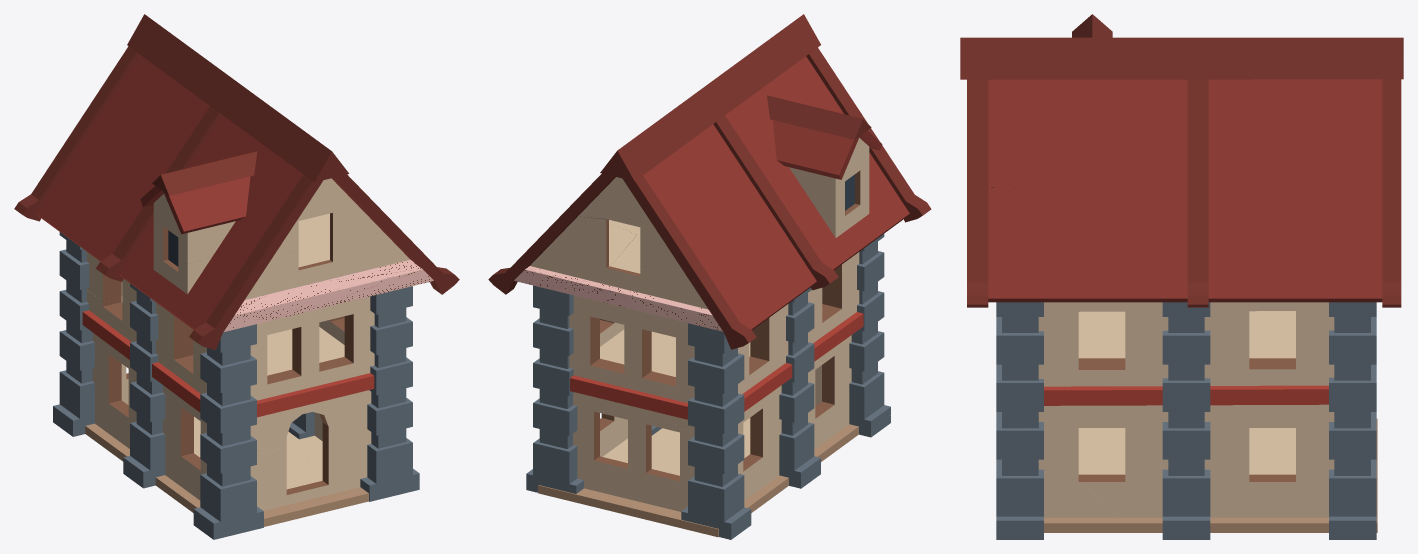
The model's file is House.fbx.
The picture shows the model from 3 angles, left to right: view 1: azimuth 30°, elevation 25°; view 2: azimuth 150°, elevation 25°; view 3: azimuth 270°, elevation 25°; orthographic projection. The views are drawn at different scales.
Visible parts, largest first — view 1: Cube.121_cell.012, Cube.121_cell.008, Cube.109_cell.004, Cube.124_cell.002, Cube.121_cell.004, Cube.108_cell.007, Cube.108_cell.009, Cube.121_cell.009, Cube.109_cell, Cube.097_cell.005, Cube.097_cell.006, Cube.109_cell.013_cell (+50 smaller); view 2: Cube.121_cell.012, Cube.121_cell.008, Cube.109_cell.008, Cube.126_cell.001, Cube.121_cell.004, Cube.123_cell, Cube.121_cell.009, Cube.109_cell.001_cell.002_cell.001, Cube.100_cell.002, Cube.097_cell.006, Cube.123_cell.002, Cube.097_cell.005 (+45 smaller); view 3: Cube.110_cell.008, Cube.110_cell.006, Cube.110_cell, Cube.110_cell.010, Cube.109_cell.004, Cube.097_cell.005, Cube.126_cell.001, Cube.109_cell.010_cell.003, Cube.109_cell.002_cell, Cube.097_cell.002, Cube.124_cell.002, Cube.109_cell.002_cell.001 (+24 smaller).
Part boxes in pixels (bbox=[...]): Cube.121_cell.012: bbox=[87, 54, 225, 182]; Cube.121_cell.008: bbox=[35, 133, 154, 261]; Cube.109_cell.004: bbox=[267, 213, 374, 413]; Cube.124_cell.002: bbox=[360, 357, 419, 501]; Cube.121_cell.004: bbox=[118, 218, 250, 329]; Cube.108_cell.007: bbox=[200, 324, 256, 433]; Cube.108_cell.009: bbox=[200, 426, 263, 532]; Cube.121_cell.009: bbox=[194, 117, 302, 246]; Cube.109_cell: bbox=[193, 305, 335, 400]; Cube.097_cell.005: bbox=[227, 87, 349, 182]; Cube.097_cell.006: bbox=[127, 26, 244, 117]; Cube.109_cell.013_cell: bbox=[134, 350, 286, 493]; Cube.121_cell.012: bbox=[643, 115, 771, 253]; Cube.121_cell.008: bbox=[695, 204, 816, 329]; Cube.109_cell.008: bbox=[579, 235, 749, 391]; Cube.126_cell.001: bbox=[533, 285, 577, 461]; Cube.121_cell.004: bbox=[771, 152, 909, 269]; Cube.123_cell: bbox=[688, 323, 744, 438]; Cube.121_cell.009: bbox=[726, 56, 836, 180]; Cube.109_cell.001_cell.002_cell.001: bbox=[618, 403, 751, 508]; Cube.100_cell.002: bbox=[623, 176, 756, 349]; Cube.097_cell.006: bbox=[622, 78, 734, 181]; Cube.123_cell.002: bbox=[681, 430, 733, 538]; Cube.097_cell.005: bbox=[717, 14, 820, 108]; Cube.110_cell.008: bbox=[1160, 149, 1382, 302]; Cube.110_cell.006: bbox=[988, 185, 1167, 302]; Cube.110_cell: bbox=[988, 79, 1181, 187]; Cube.110_cell.010: bbox=[1180, 79, 1382, 176]; Cube.109_cell.004: bbox=[1038, 302, 1238, 411]; Cube.097_cell.005: bbox=[960, 37, 1167, 79]; Cube.126_cell.001: bbox=[1329, 302, 1376, 499]; Cube.109_cell.010_cell.003: bbox=[1249, 345, 1334, 532]; Cube.109_cell.002_cell: bbox=[1071, 371, 1254, 497]; Cube.097_cell.002: bbox=[1242, 37, 1402, 79]; Cube.124_cell.002: bbox=[996, 364, 1043, 539]; Cube.109_cell.002_cell.001: bbox=[1116, 448, 1265, 532].
Bounding box in the file's own units: 3.23 × 4.41 × 4.
